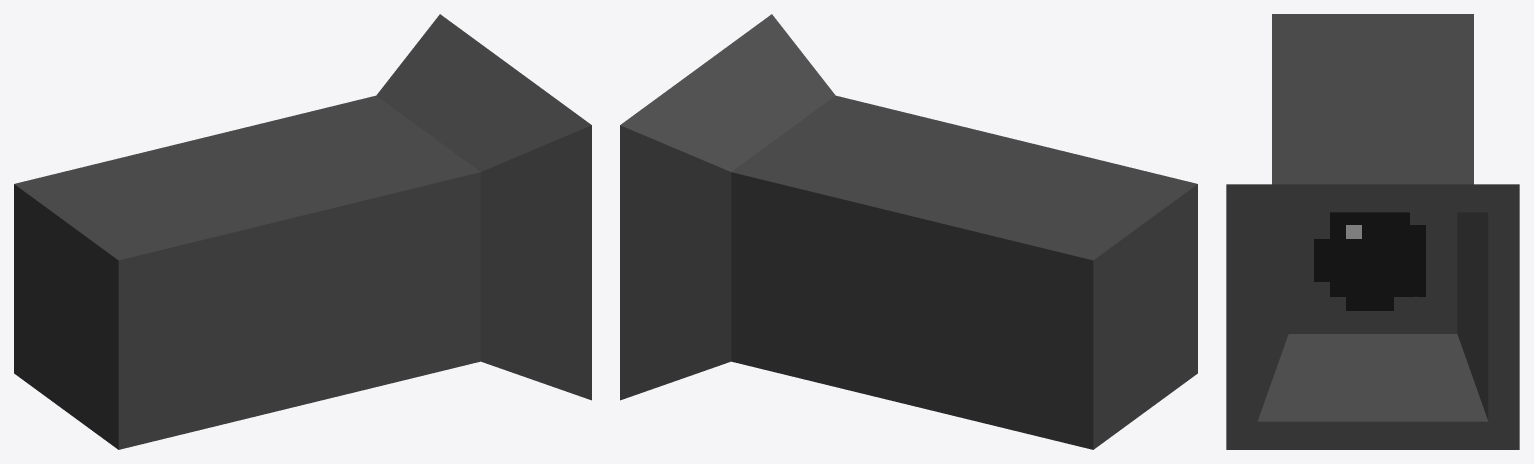
The model's file is player_start.glb.
The picture shows the model from 3 angles, left to right: view 1: azimuth 30°, elevation 25°; view 2: azimuth 150°, elevation 25°; view 3: azimuth 270°, elevation 25°; orthographic projection. The views are drawn at different scales.
Visible parts, largest first — view 1: Cube; view 2: Cube; view 3: Cube.
Boxes of the visible parts, <box> form: Cube: <box>14,14,591,449</box>; Cube: <box>620,14,1197,449</box>; Cube: <box>1226,14,1519,449</box>.
Size of the model in its own units: 1.24 by 0.7264 by 0.7264.
1 material, 1 textured.
